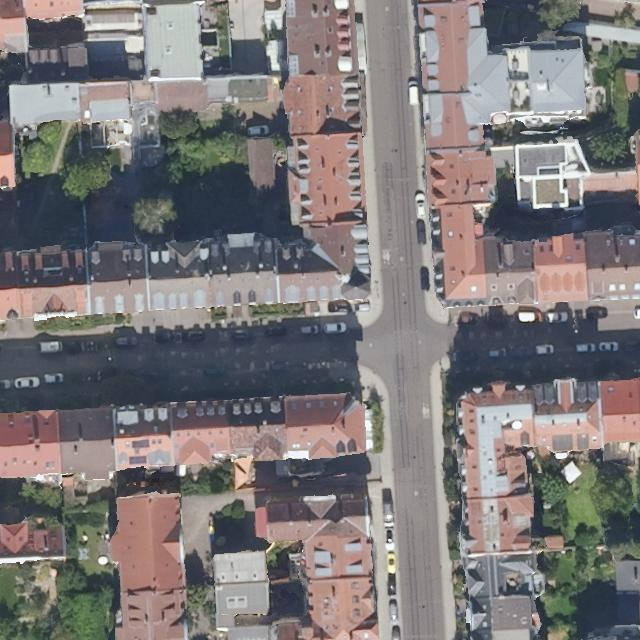PV: (131, 438, 149, 450), (129, 455, 146, 466)
